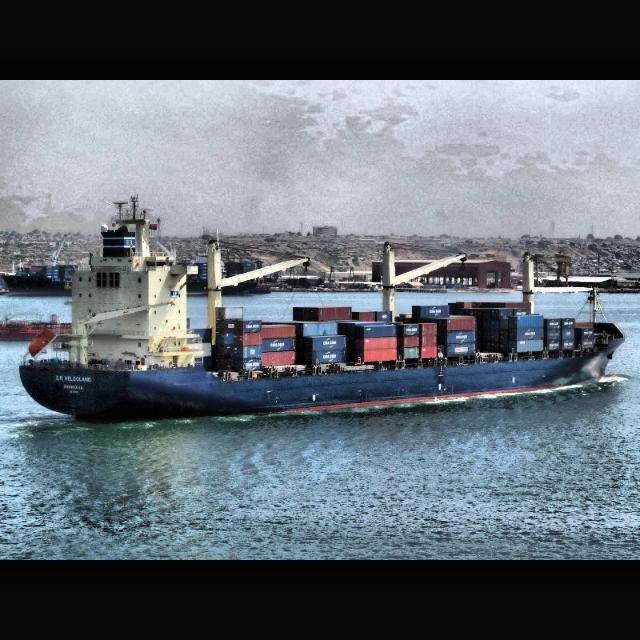container: (18, 194, 626, 424)
